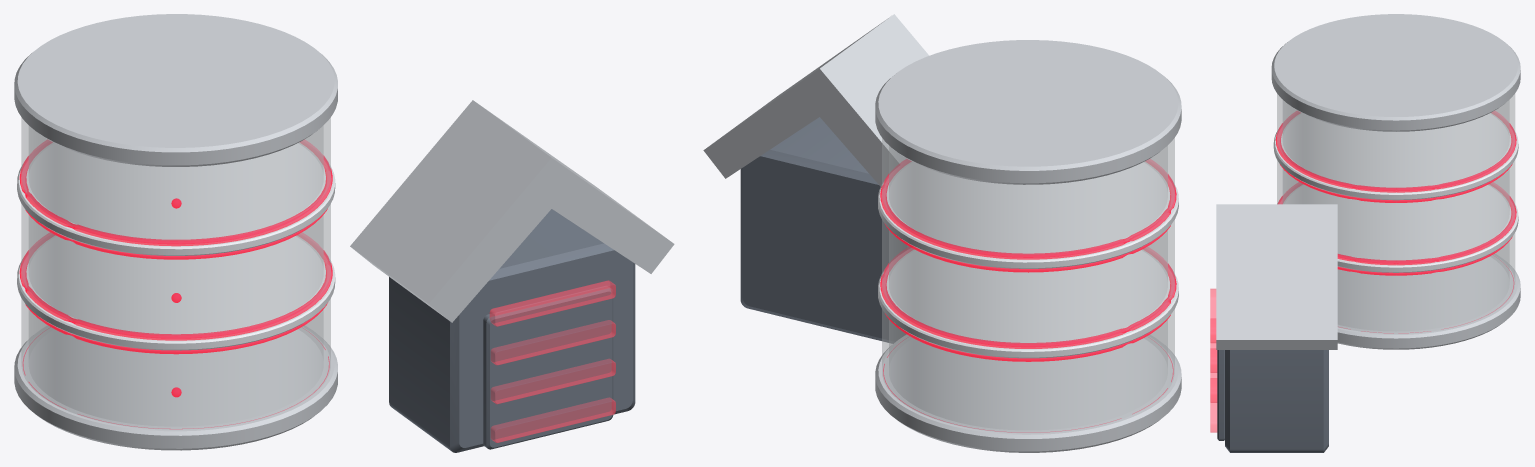
Rendered from 33-warehouse.glb.
3 views of the same model, side by side, from view 1: azimuth 30°, elevation 25°; view 2: azimuth 150°, elevation 25°; view 3: azimuth 270°, elevation 25° (orthographic). The views are drawn at different scales.
Visible parts, largest first — view 1: BC satin silver metal, BC clear optical glass, BC polished silver metal, BC dark brushed metal, BC ruby optical glass, BC neon red glass edge; view 2: BC satin silver metal, BC clear optical glass, BC polished silver metal, BC dark brushed metal, BC neon red glass edge; view 3: BC satin silver metal, BC clear optical glass, BC polished silver metal, BC dark brushed metal, BC neon red glass edge, BC ruby optical glass.
Boxes of the visible parts, bbox=[...] form: BC satin silver metal: bbox=[14, 14, 674, 450]; BC clear optical glass: bbox=[21, 117, 330, 429]; BC polished silver metal: bbox=[17, 142, 335, 350]; BC dark brushed metal: bbox=[389, 209, 635, 452]; BC ruby optical glass: bbox=[489, 280, 615, 442]; BC neon red glass edge: bbox=[19, 140, 332, 429]; BC satin silver metal: bbox=[703, 14, 1181, 452]; BC clear optical glass: bbox=[882, 138, 1174, 432]; BC polished silver metal: bbox=[878, 162, 1178, 358]; BC dark brushed metal: bbox=[740, 117, 908, 343]; BC neon red glass edge: bbox=[880, 159, 1176, 432]; BC satin silver metal: bbox=[1216, 14, 1520, 349]; BC clear optical glass: bbox=[1277, 94, 1515, 333]; BC polished silver metal: bbox=[1273, 113, 1518, 272]; BC dark brushed metal: bbox=[1217, 350, 1328, 452]; BC neon red glass edge: bbox=[1275, 111, 1516, 333]; BC ruby optical glass: bbox=[1210, 288, 1217, 432].
Bounding box in the file's own units: 2.14 × 1.31 × 1.43.
